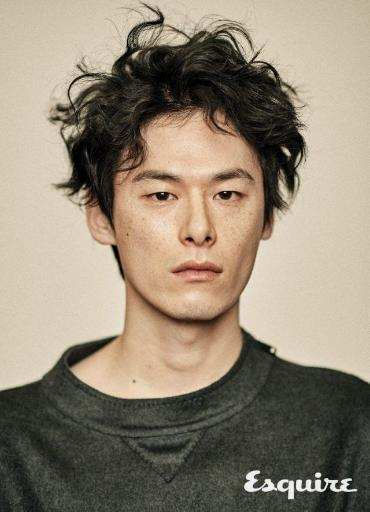left_eye: (212, 189, 247, 204)
left_lip_corner: (216, 267, 227, 278)
right_eye: (140, 191, 180, 206)
right_lip_corner: (168, 267, 180, 280)
